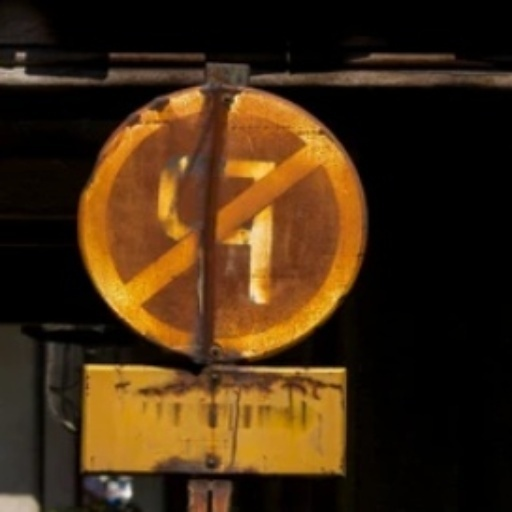No parking: (64, 62, 358, 356)
